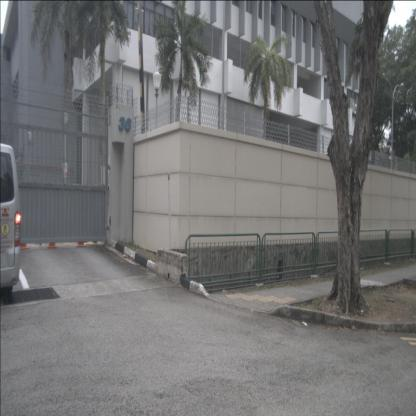vehicle-car: (0, 143, 21, 303)
